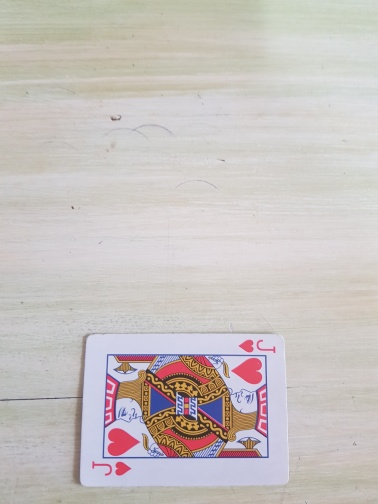jack: (78, 332, 292, 489)
